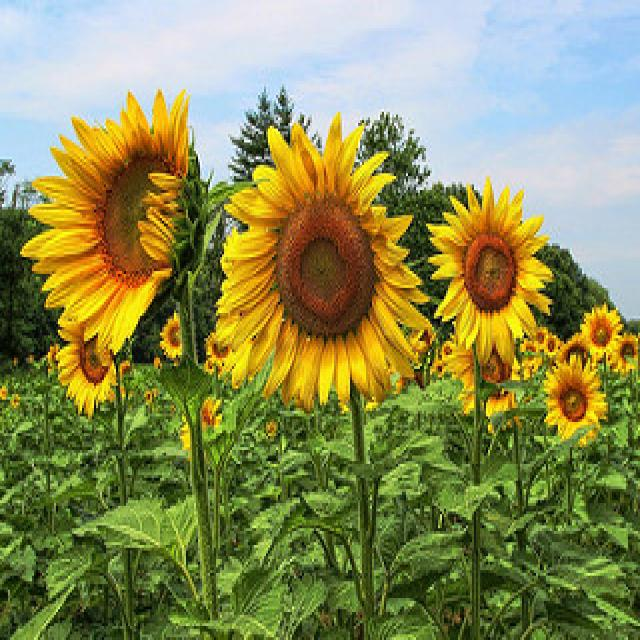sunflower: (218, 108, 431, 408), (15, 80, 201, 364), (422, 176, 556, 369), (540, 348, 608, 451), (578, 299, 624, 363), (599, 327, 639, 377), (160, 305, 192, 366), (203, 328, 241, 373), (44, 342, 68, 373), (540, 329, 562, 359), (429, 355, 447, 386), (141, 386, 157, 414)
